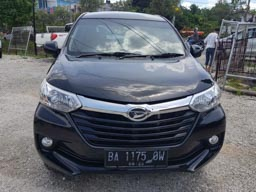plat: (103, 149, 167, 162)
